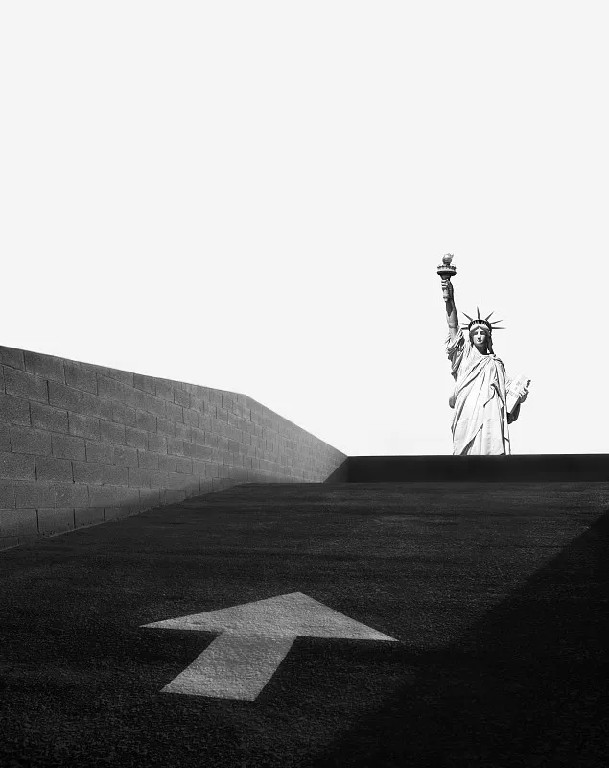SL: (437, 253, 531, 456)
